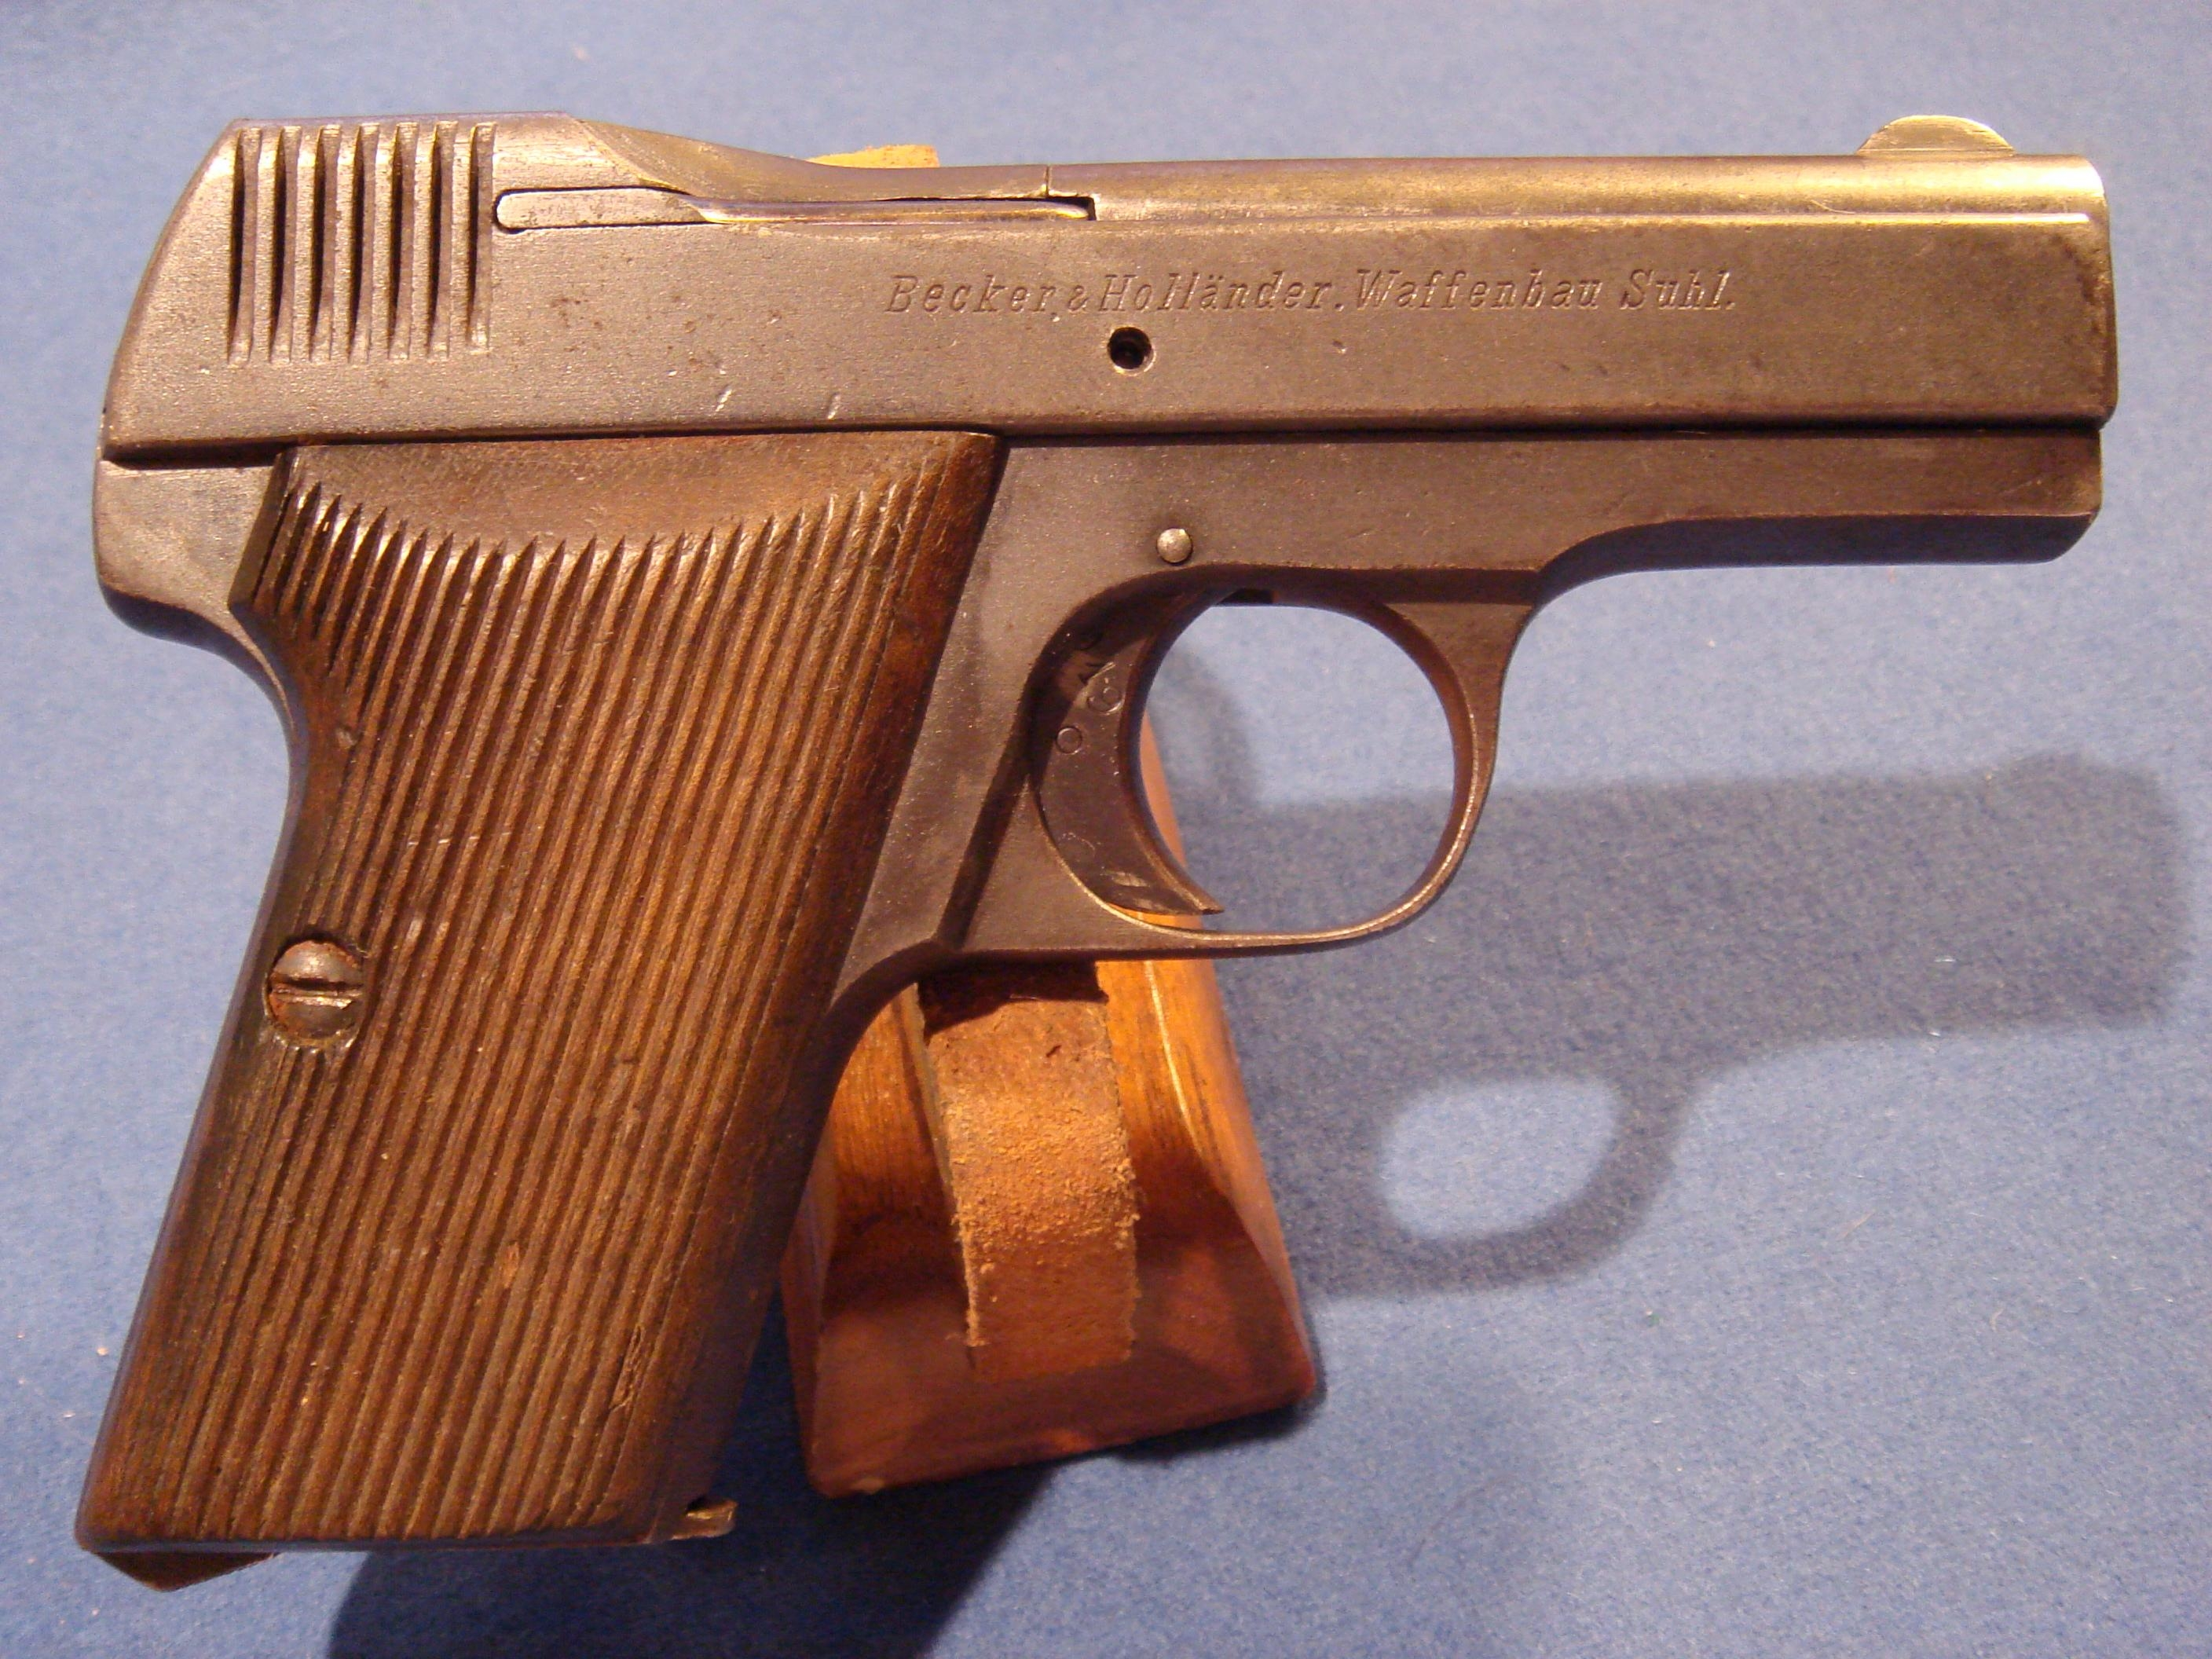gun: (70, 92, 2149, 1603)
